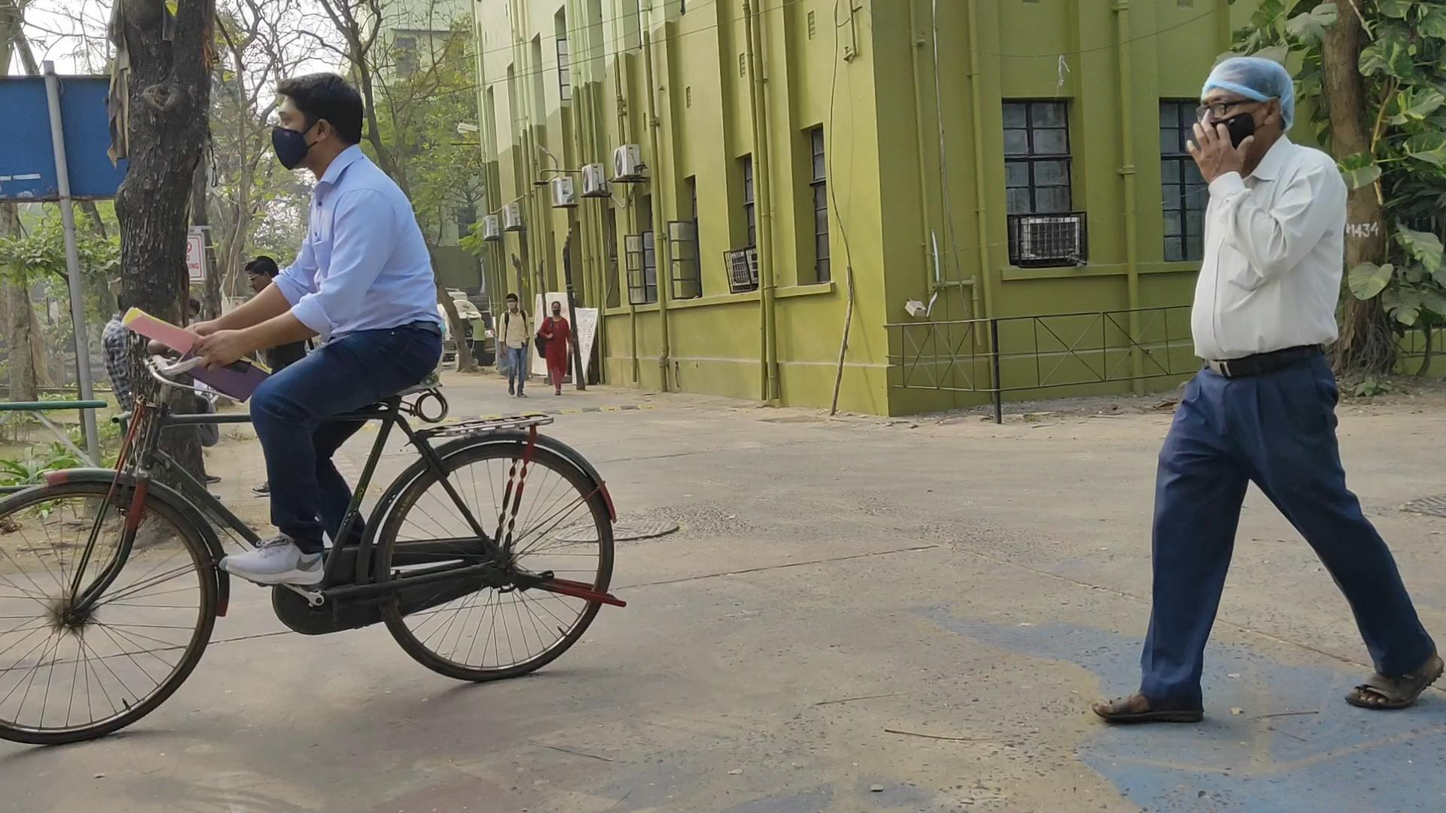bike: (1, 72, 627, 747)
